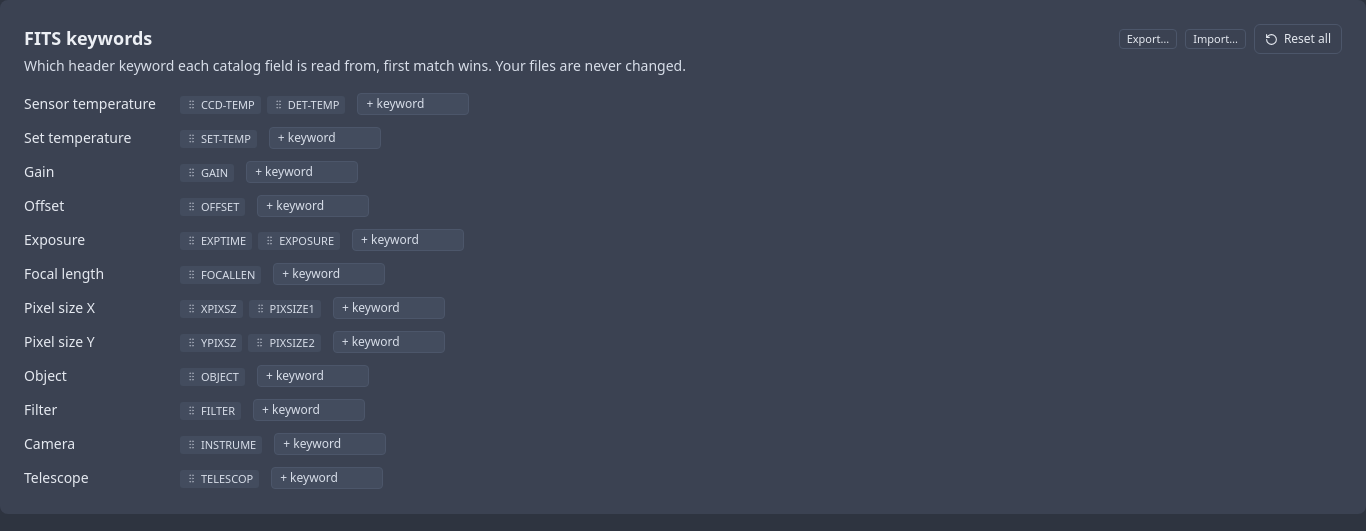
Test: HeaderKeywordsSection › shows the reset button only for a field off its default
The width and height of the screenshot is (1366, 531).
Type "egain" into the 3rd field with placeholder "+ keyword". click: [302, 172]
box: x1=246 y1=161 x2=358 y2=183
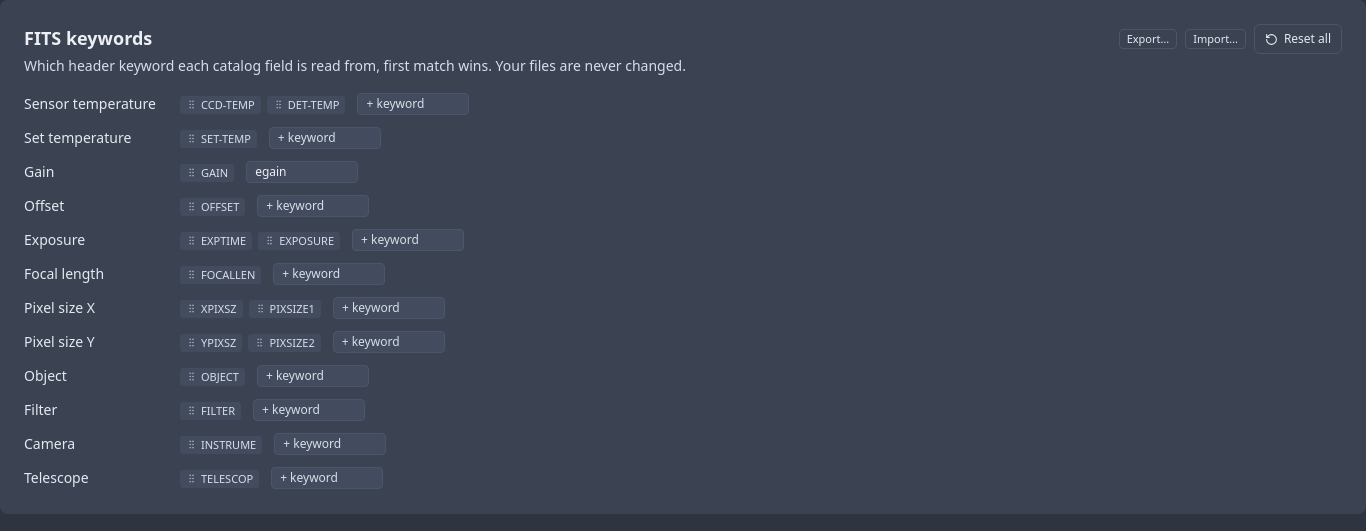
Press Enter in the field named "Add a keyword to Gain", box x1=246 y1=161 x2=358 y2=183
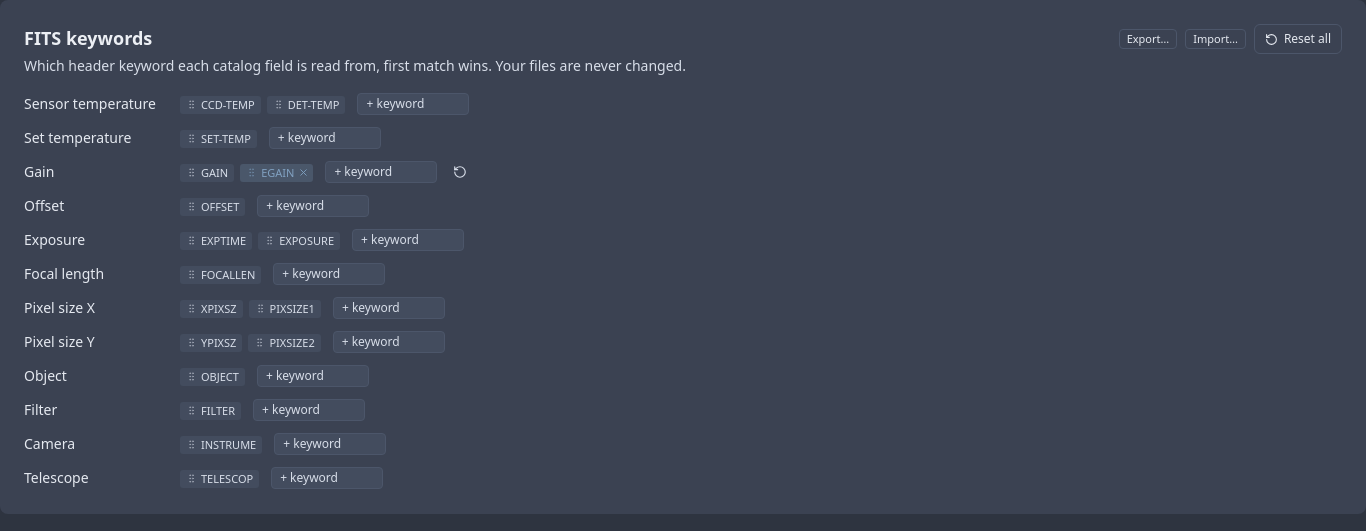
Expected: the number of buttons named "Reset to default" is 1
Click the button named "Reset to default". click: [460, 172]
box: x1=449 y1=161 x2=471 y2=183
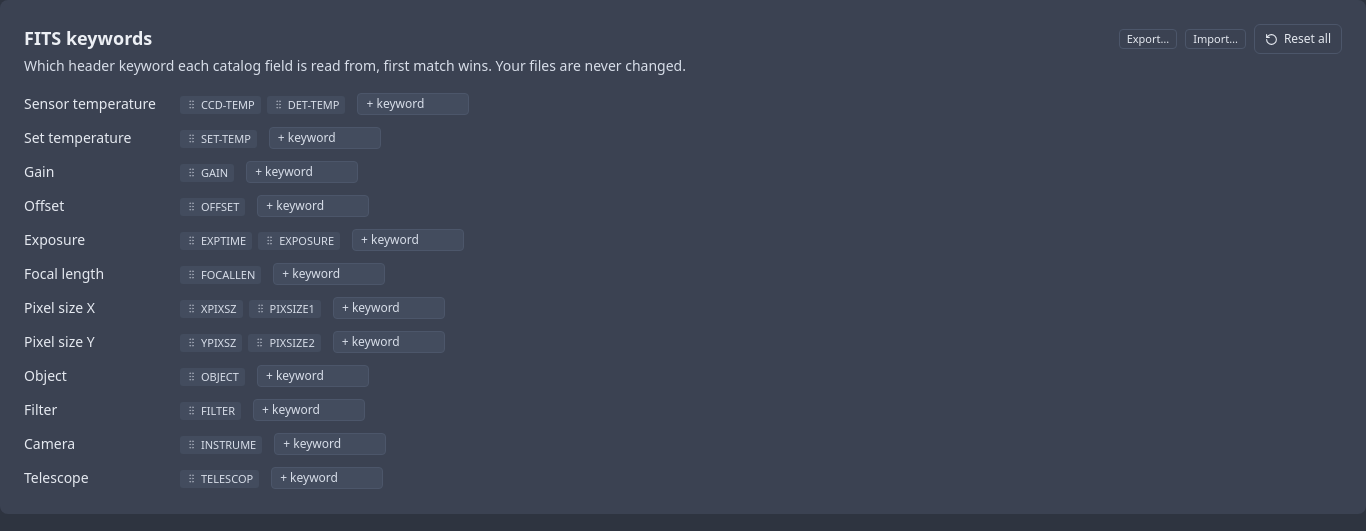
Expected: the text "EGAIN" is gone
